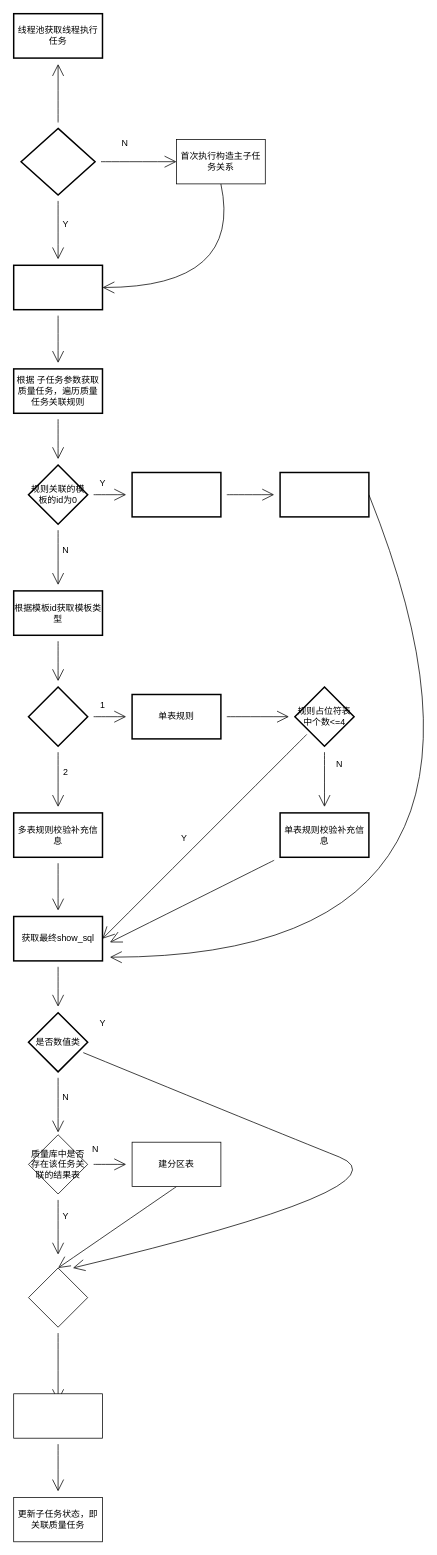
This 437x1555 diagram has some shape labels left out. The centre of each missing label's shape, as x and y in pixels:
"sql执行结果" belongs at point (58, 1297).
"子任务监控条件初始化，日志地址生成" belongs at point (58, 287).
"查看是否存在主子关联关系" belongs at point (57, 161).
"校验规则补充信息" belongs at point (324, 494).
"类型1或2" belongs at point (57, 716).
"自定义规则" belongs at point (176, 494).
"记录结果执行下一条规则" belongs at point (57, 1415).
